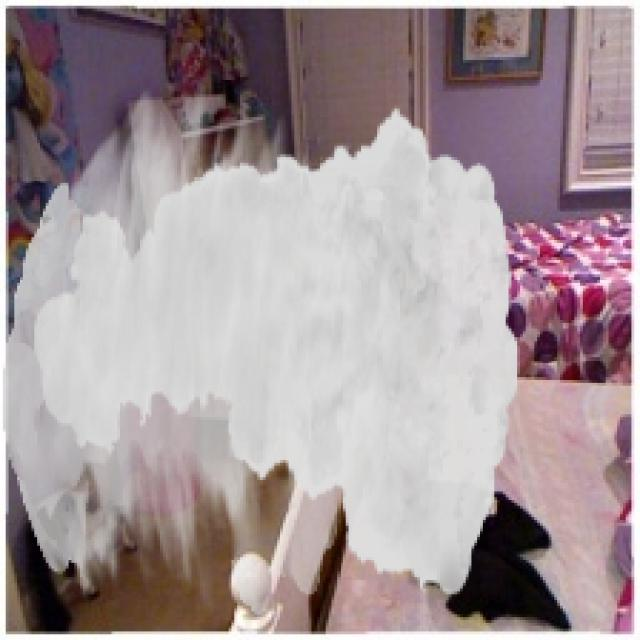smoke: (3, 86, 520, 614)
